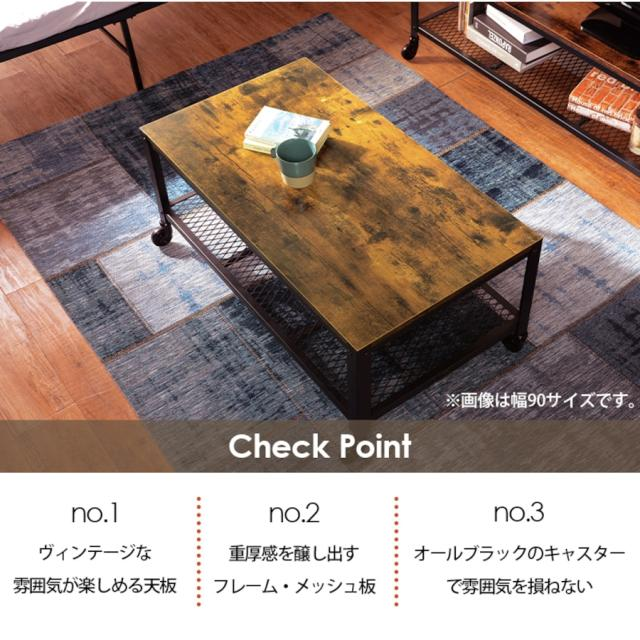vintage chair: (136, 54, 544, 402)
